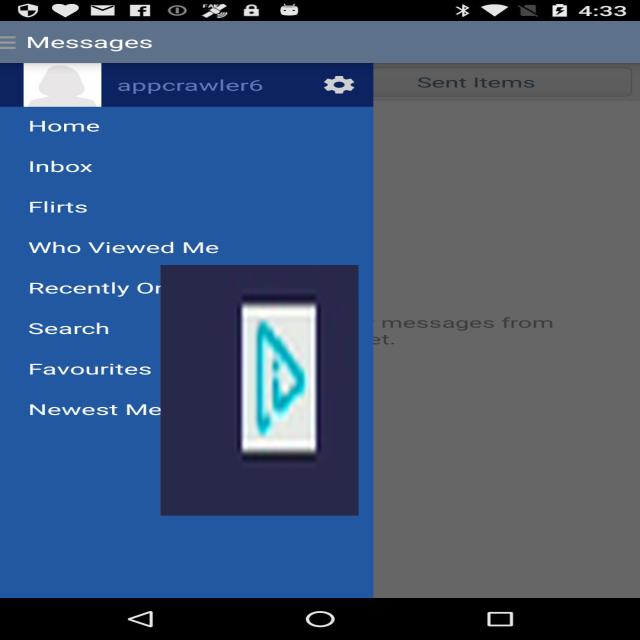sneaking: (160, 265, 358, 516)
